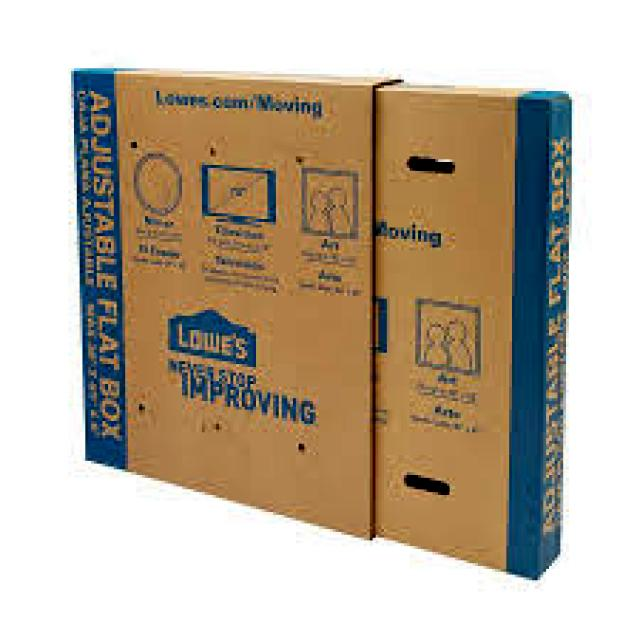Cardboard: (67, 61, 574, 589)
